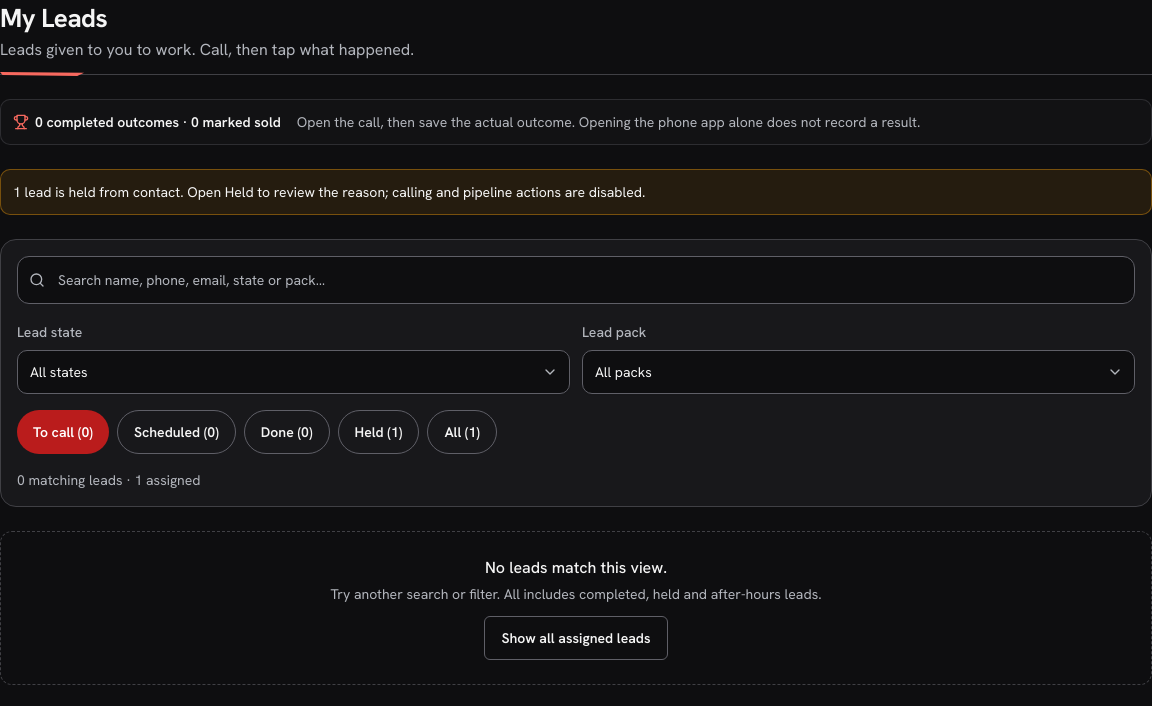
Test: My Leads recordings and pipeline › shows a later suppression reason and blocks calling and pipeline creation even while status remains new
The width and height of the screenshot is (1152, 706).
Expected: the text with test id "lead-holds" is shown, [0, 169, 1151, 215]
Click the button "Held (1)": (378, 432) [338, 410, 419, 454]
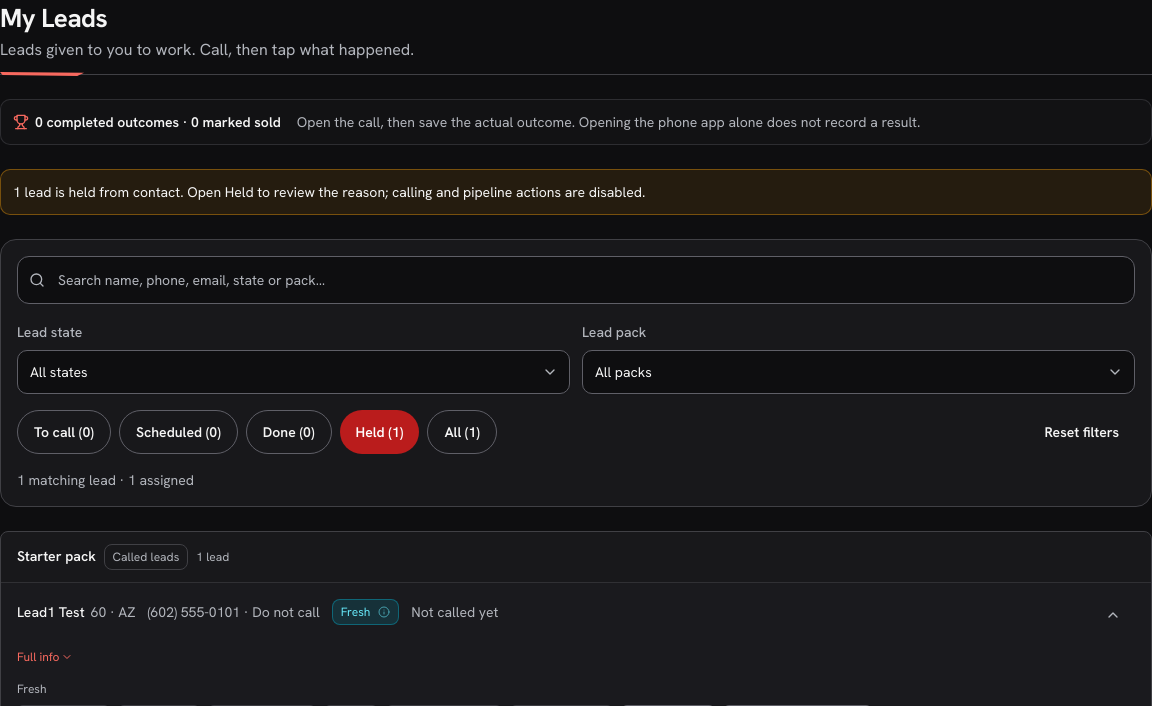
Result: the text "(602) 555-0101 · Do not call" is shown at [147, 602, 320, 622]
